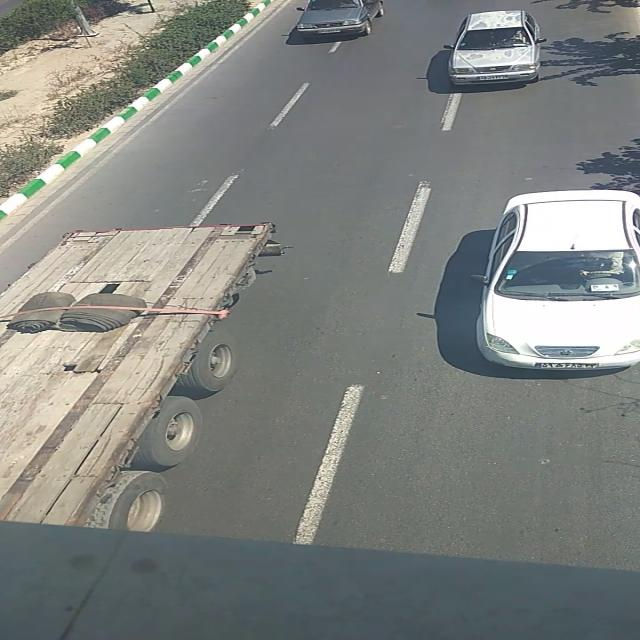car: (470, 192, 638, 370), (443, 10, 542, 84), (294, 0, 388, 46)
truck: (0, 224, 273, 522)
